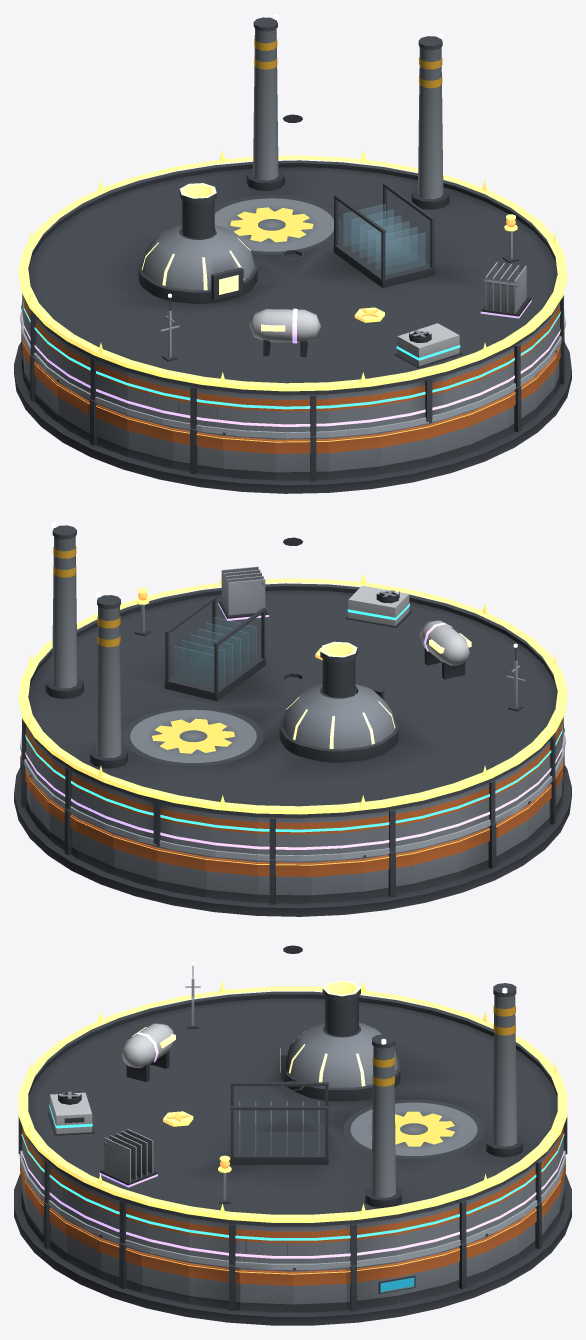
Rendered from glassworks_m.glb.
The picture shows the model from 3 angles, top to bottom: view 1: azimuth 30°, elevation 25°; view 2: azimuth 150°, elevation 25°; view 3: azimuth 270°, elevation 25°; orthographic projection.
Parts seen in each view (by area): view 1: Roof, Base, L4, Wall_21, Wall_20, Wall_22, L3, Wall_19, Wall_23, Wall_18, Wall_24, Upper_21 (+21 smaller); view 2: Roof, Base, L4, Wall_10, Wall_11, Wall_09, L3, Wall_12, Wall_08, Wall_13, Wall_07, Upper_10 (+25 smaller); view 3: Roof, Base, L4, Wall_00, Wall_31, Wall_30, Wall_29, Wall_01, Wall_02, Wall_28, L3, Wall_03 (+26 smaller).
Part boxes in pixels (left/top/right/bottom): Roof: left=23, top=14, right=560, bottom=395; Base: left=14, top=342, right=571, bottom=493; L4: left=249, top=262, right=531, bottom=357; Wall_21: left=275, top=436, right=328, bottom=481; Wall_20: left=222, top=432, right=275, bottom=480; Wall_22: left=328, top=432, right=380, bottom=479; L3: left=281, top=250, right=462, bottom=368; Wall_19: left=172, top=426, right=222, bottom=476; Wall_23: left=380, top=423, right=429, bottom=474; Wall_18: left=127, top=415, right=173, bottom=468; Wall_24: left=428, top=410, right=472, bottom=464; Upper_21: left=275, top=394, right=328, bottom=436; Roof: left=25, top=522, right=562, bottom=818; Base: left=14, top=765, right=571, bottom=916; L4: left=218, top=566, right=471, bottom=679; Wall_10: left=257, top=859, right=310, bottom=904; Wall_11: left=310, top=857, right=363, bottom=903; Wall_09: left=205, top=855, right=257, bottom=902; L3: left=281, top=585, right=411, bottom=682; Wall_12: left=363, top=849, right=413, bottom=899; Wall_08: left=156, top=844, right=205, bottom=897; Wall_13: left=412, top=838, right=458, bottom=891; Wall_07: left=113, top=833, right=157, bottom=887; Upper_10: left=257, top=817, right=310, bottom=859; Roof: left=26, top=945, right=559, bottom=1226; Base: left=14, top=1173, right=571, bottom=1325; L4: left=99, top=1023, right=175, bottom=1187; Wall_00: left=293, top=1268, right=346, bottom=1312; Wall_31: left=239, top=1268, right=292, bottom=1312; Wall_30: left=188, top=1261, right=239, bottom=1311; Wall_29: left=141, top=1251, right=188, bottom=1303; Wall_01: left=346, top=1261, right=397, bottom=1311; Wall_02: left=397, top=1251, right=444, bottom=1303; Wall_28: left=99, top=1234, right=141, bottom=1292; L3: left=47, top=1081, right=303, bottom=1135; Wall_03: left=444, top=1236, right=485, bottom=1292.
Bounding box in the file's own units: 14.75 × 7.69 × 14.75.
